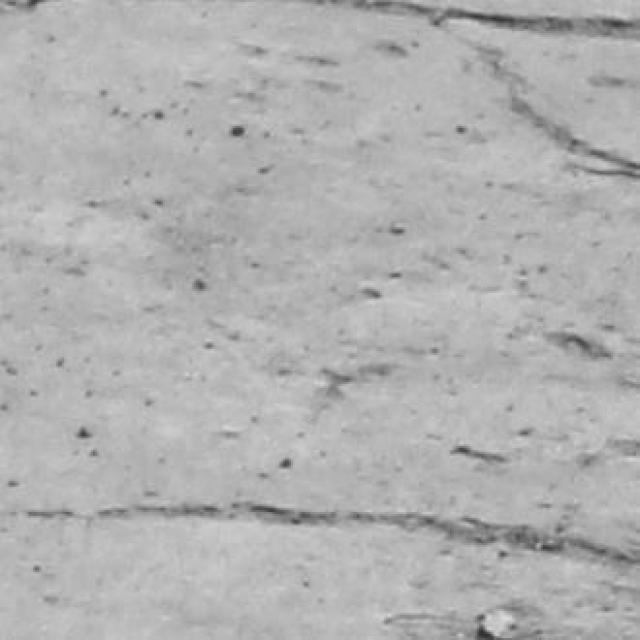crack: (6, 503, 639, 564), (464, 41, 639, 178), (291, 0, 639, 38), (293, 0, 639, 38), (0, 0, 50, 11)
